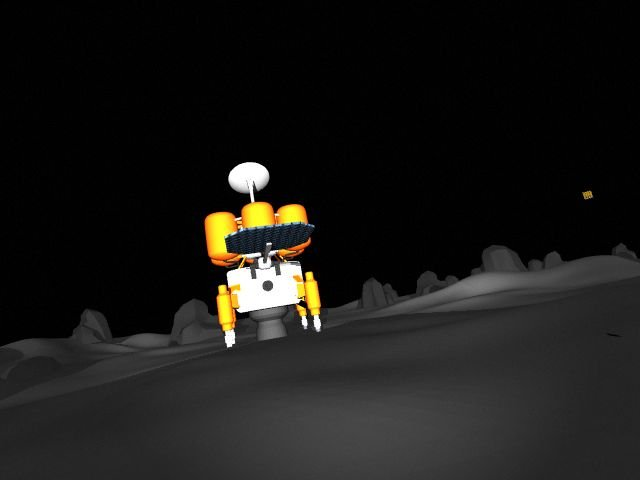homebase: (203, 160, 322, 351)
